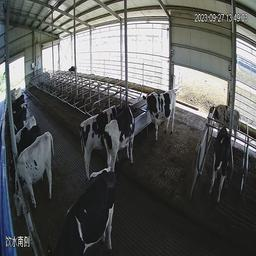cow: (36, 166, 116, 255), (77, 103, 126, 183), (14, 130, 55, 219), (103, 101, 139, 186), (143, 89, 179, 140), (208, 126, 231, 204), (199, 98, 236, 140), (65, 63, 77, 80)
